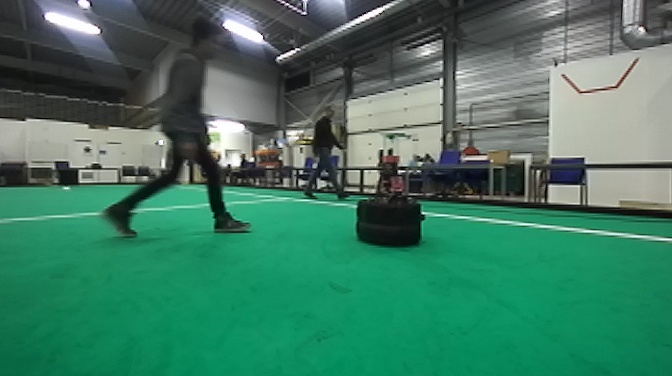human: (100, 16, 244, 247), (301, 102, 346, 201)
robot: (354, 128, 425, 249)
